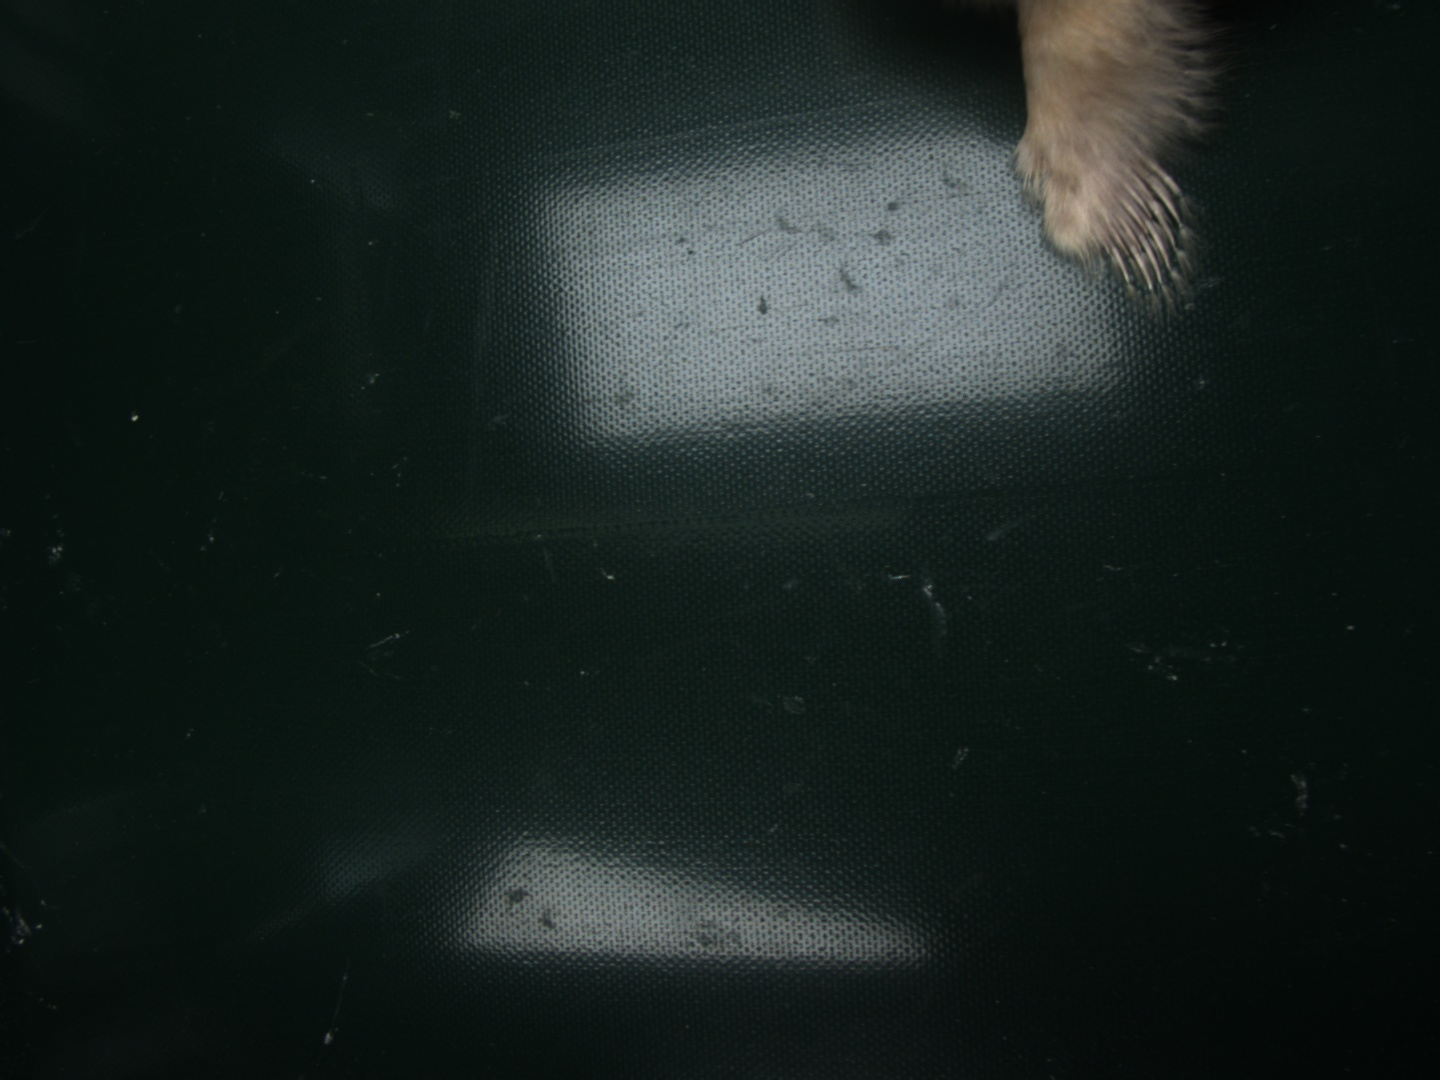female: (1092, 155, 1180, 292)
